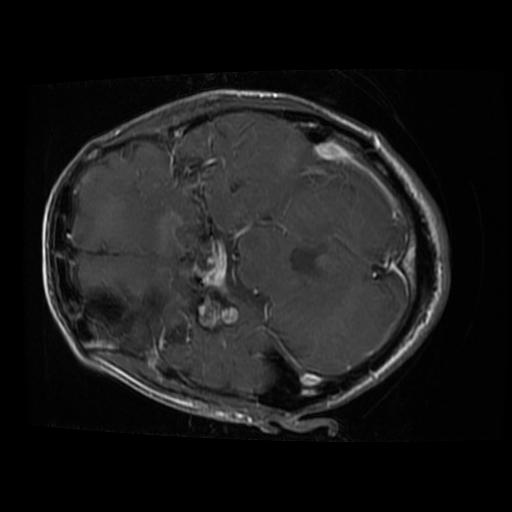glioma: (190, 293, 241, 335)
